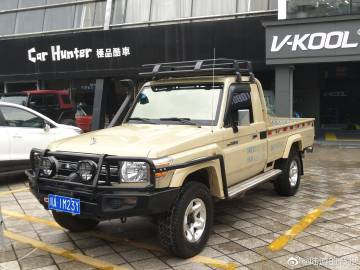other: (29, 67, 324, 260)
